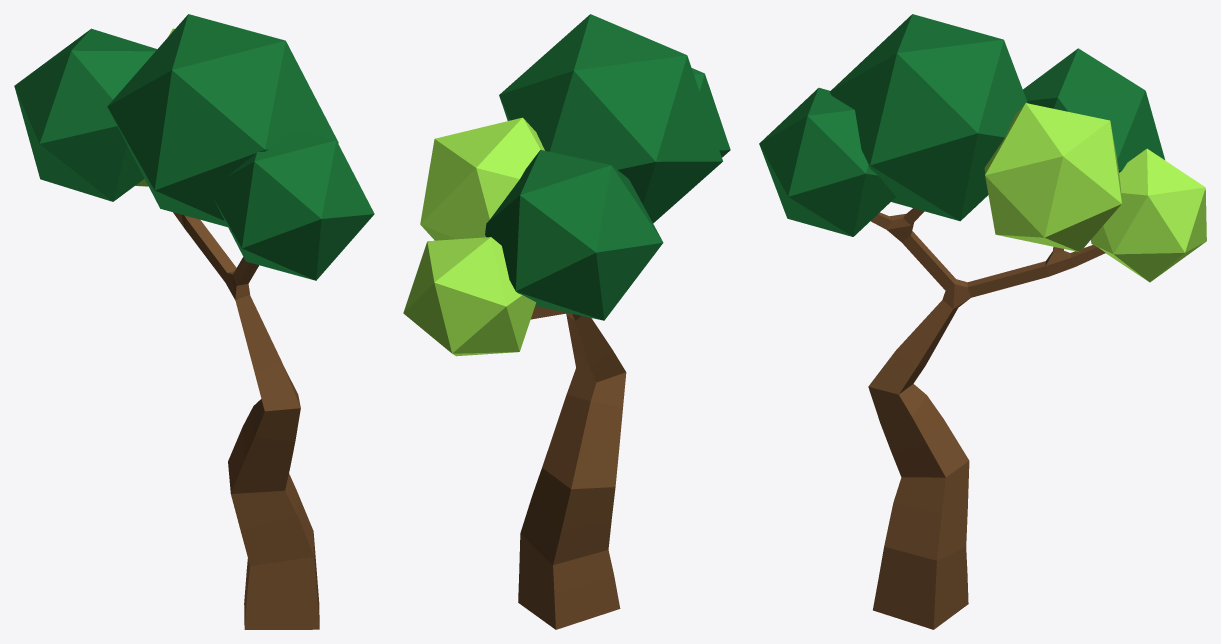
The model's file is broadleaved.gltf.
The picture shows the model from 3 angles, left to right: view 1: azimuth 30°, elevation 25°; view 2: azimuth 150°, elevation 25°; view 3: azimuth 270°, elevation 25°; orthographic projection. The views are drawn at different scales.
Parts seen in each view (by area): view 1: Tree3; view 2: Tree3; view 3: Tree3.
Part boxes in pixels (x1,y1,x2,y2): Tree3: [14, 14, 374, 629]; Tree3: [403, 14, 730, 629]; Tree3: [759, 14, 1206, 629].
Size of the model in its own units: 3.15 by 7.4 by 5.43.
